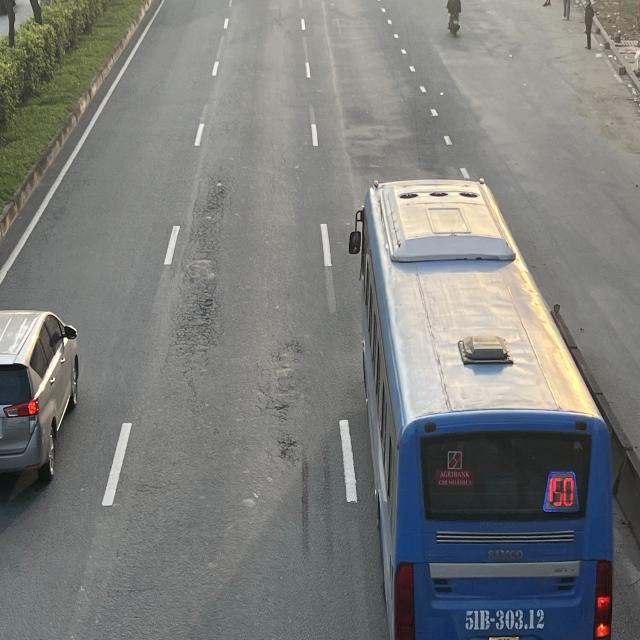car: (0, 305, 80, 483)
coach: (351, 182, 621, 640)
